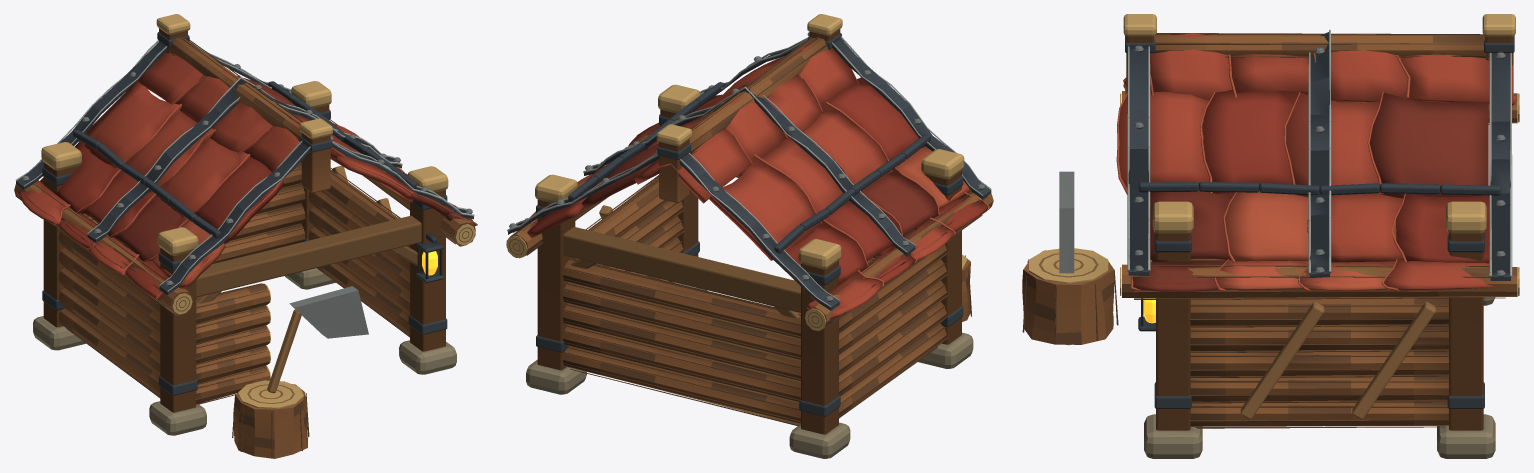
The model's file is lumberjack.glb.
The picture shows the model from 3 angles, left to right: view 1: azimuth 30°, elevation 25°; view 2: azimuth 150°, elevation 25°; view 3: azimuth 270°, elevation 25°; orthographic projection. The views are drawn at different scales.
Visible parts, largest first — view 1: lumberjack.001; view 2: lumberjack.001; view 3: lumberjack.001.
Boxes of the visible parts, box(x1,y1,x2,y2) form: lumberjack.001: box(14, 14, 477, 458); lumberjack.001: box(506, 14, 993, 458); lumberjack.001: box(1022, 14, 1519, 458).
Bounding box in the file's own units: 5.06 × 4.2 × 5.35.
